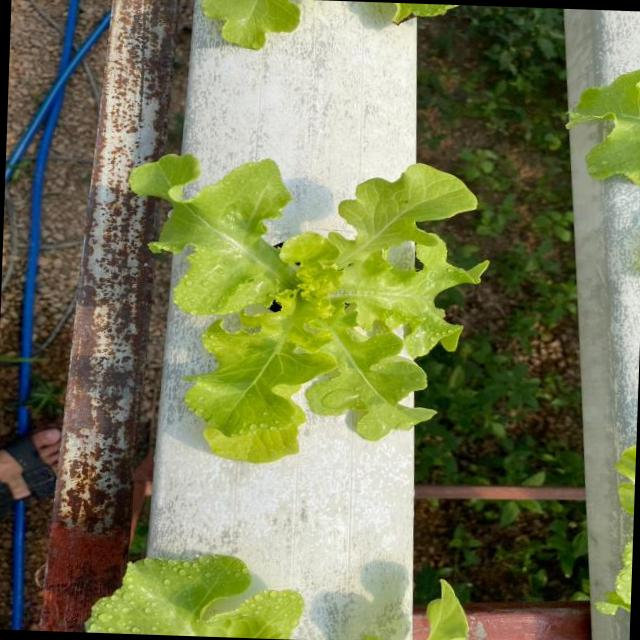Lettuce-Not-Ready-to-Harvest: (130, 154, 486, 461)
